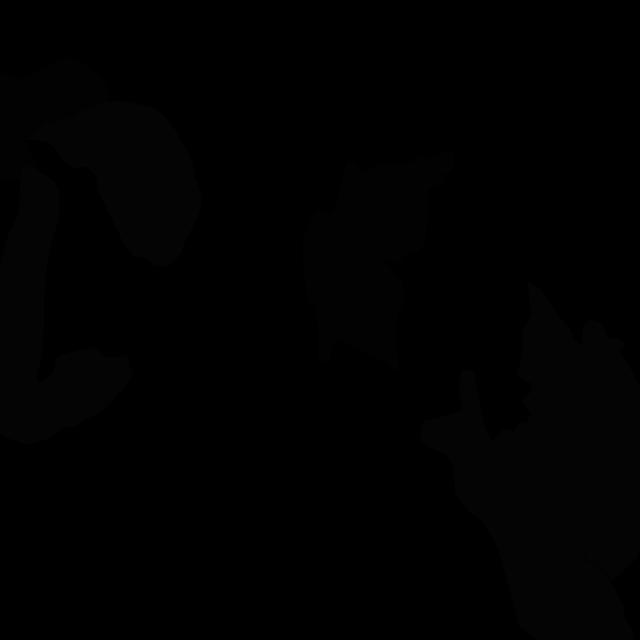cardboard: (302, 151, 454, 373), (0, 56, 110, 180)
soft_plastic: (420, 369, 634, 640), (517, 280, 640, 582), (0, 165, 132, 445), (25, 100, 202, 267)
